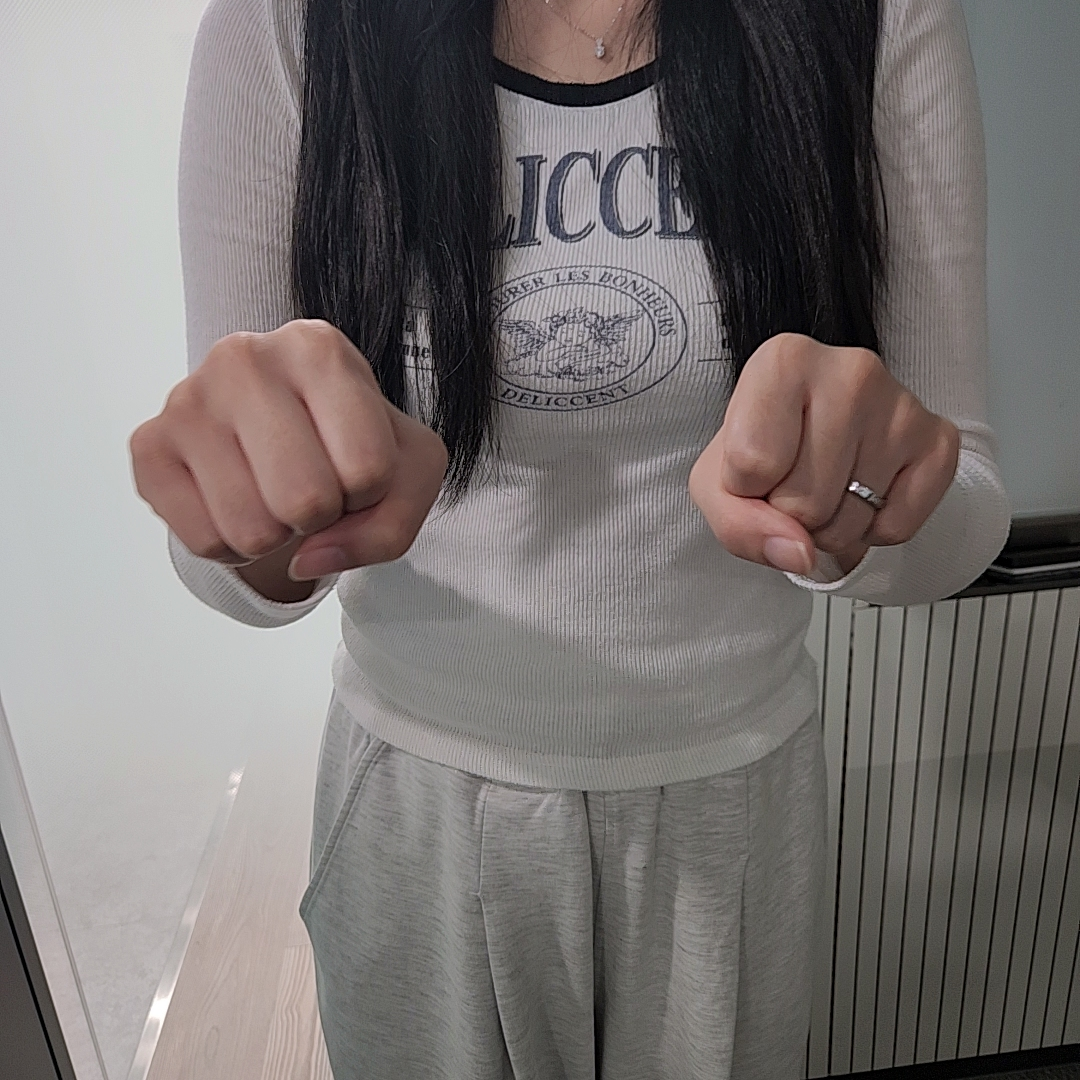hello: (131, 316, 961, 588)
